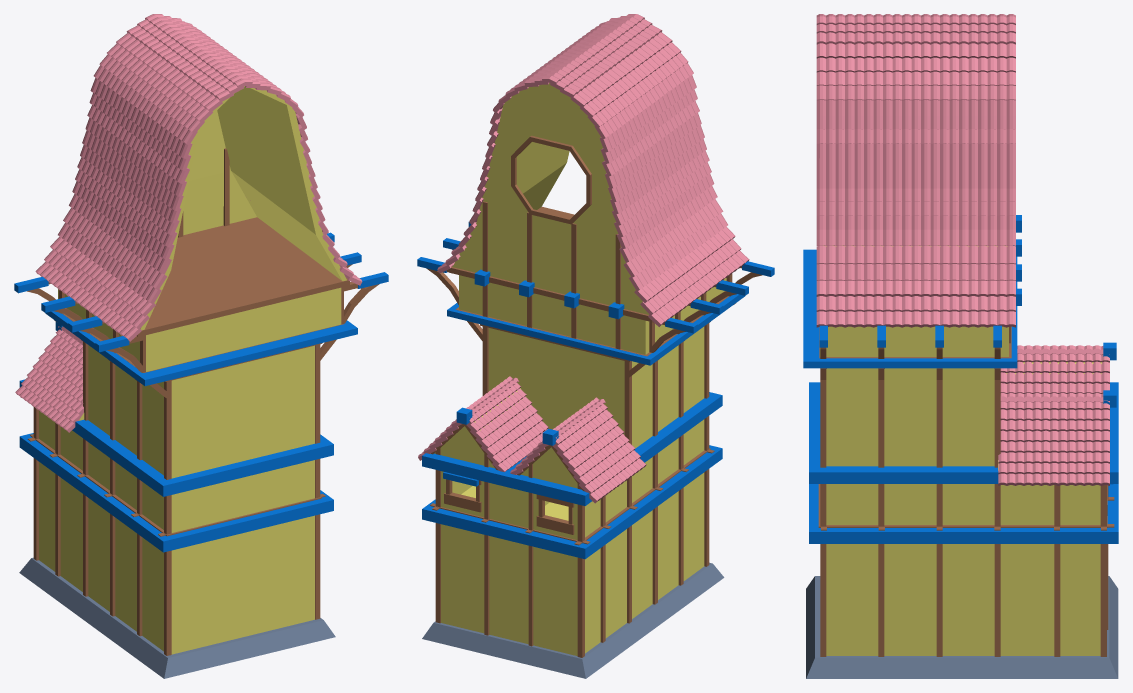
The model's file is building#2 finished with collid.fbx.
The picture shows the model from 3 angles, left to right: view 1: azimuth 30°, elevation 25°; view 2: azimuth 150°, elevation 25°; view 3: azimuth 270°, elevation 25°; orthographic projection. The views are drawn at different scales.
Parts seen in each view (by area): view 1: wall1, roof tiles.003, grapple, wall1.001, block sepeeeereator.002, stone bottom, support beams.001, roof tiles, support beams, support beams.005, block sepeeeereator.007, block sepeeeereator.009; view 2: wall1, roof tiles.003, wall1.001, grapple, roof tiles, stone bottom, support beams.001, support beams, block sepeeeereator.009, Cube, block sepeeeereator.004, block sepeeeereator.001 (+4 smaller); view 3: roof tiles.003, wall1, grapple, roof tiles, stone bottom, support beams.001, support beams, block sepeeeereator.007.
Boxes of the visible parts, bbox=[...] form: wall1: bbox=[39, 287, 341, 654]; roof tiles.003: bbox=[35, 14, 362, 341]; grapple: bbox=[14, 232, 388, 552]; wall1.001: bbox=[140, 86, 346, 330]; block sepeeeereator.002: bbox=[137, 217, 349, 336]; stone bottom: bbox=[19, 557, 335, 678]; support beams.001: bbox=[83, 341, 320, 655]; roof tiles: bbox=[15, 326, 83, 432]; support beams: bbox=[33, 407, 60, 576]; support beams.005: bbox=[27, 264, 379, 372]; block sepeeeereator.007: bbox=[32, 437, 321, 536]; block sepeeeereator.009: bbox=[178, 148, 229, 237]; wall1: bbox=[441, 275, 726, 655]; roof tiles.003: bbox=[437, 14, 749, 326]; wall1.001: bbox=[452, 83, 649, 314]; grapple: bbox=[417, 222, 774, 559]; roof tiles: bbox=[418, 376, 646, 503]; stone bottom: bbox=[422, 562, 724, 678]; support beams.001: bbox=[482, 323, 709, 623]; support beams: bbox=[435, 448, 605, 657]; block sepeeeereator.009: bbox=[482, 201, 620, 349]; Cube: bbox=[434, 388, 577, 488]; block sepeeeereator.004: bbox=[484, 453, 533, 646]; block sepeeeereator.001: bbox=[444, 479, 574, 534]; roof tiles.003: bbox=[816, 14, 1015, 327]; wall1: bbox=[820, 326, 1100, 655]; grapple: bbox=[803, 215, 1118, 543]; roof tiles: bbox=[998, 345, 1109, 485]; stone bottom: bbox=[806, 576, 1118, 678]; support beams.001: bbox=[820, 380, 1000, 656]; support beams: bbox=[1054, 485, 1106, 656]; block sepeeeereator.007: bbox=[818, 484, 1107, 527].
Size of what is drawn, in the model's own units: 5497 by 10408 by 4816.
